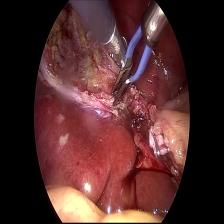Bipolar: (109, 25, 156, 110)
